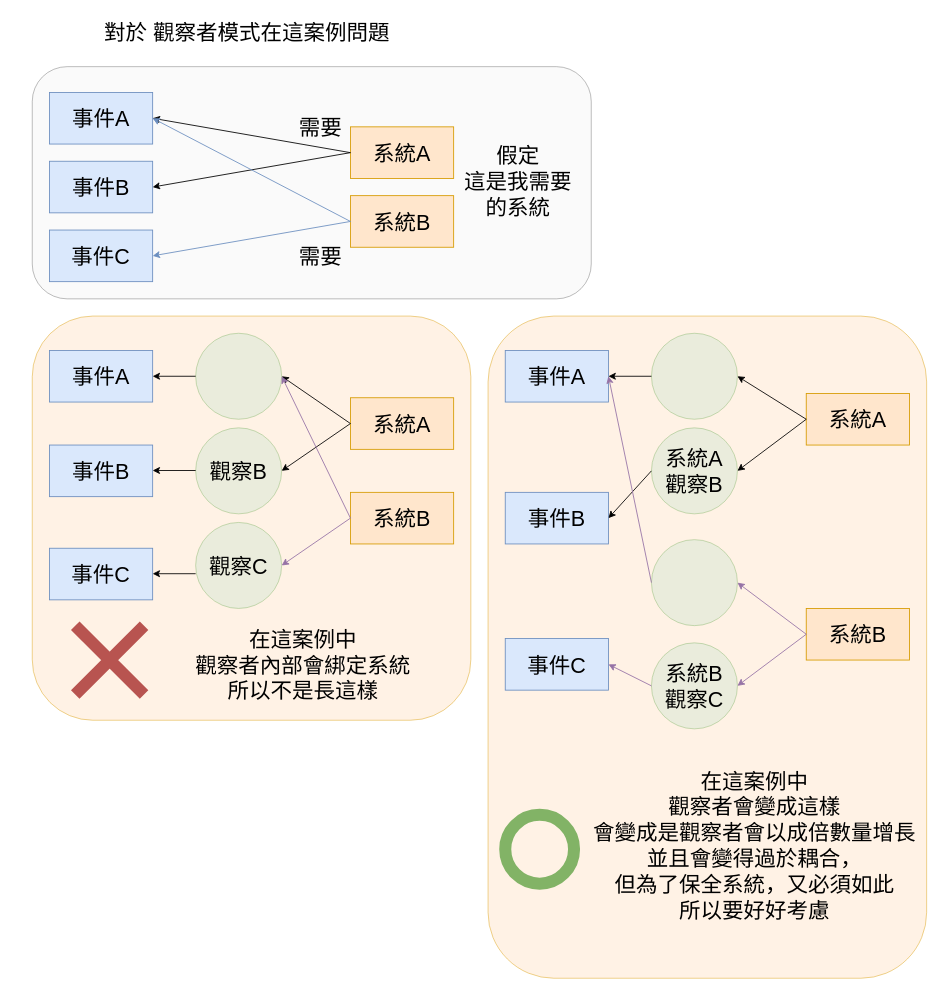
The diagram is 942 pixels wide and 993 high, and some of its shapes have lost their labels. The shapes that lost their labels are listed below. From the top down, each one's centre as x and y in pixels, then its label:
At [238,375]: "觀察A".
At [694,375]: "系統A 觀察A".
At [694,582]: "系統B 觀察A".
